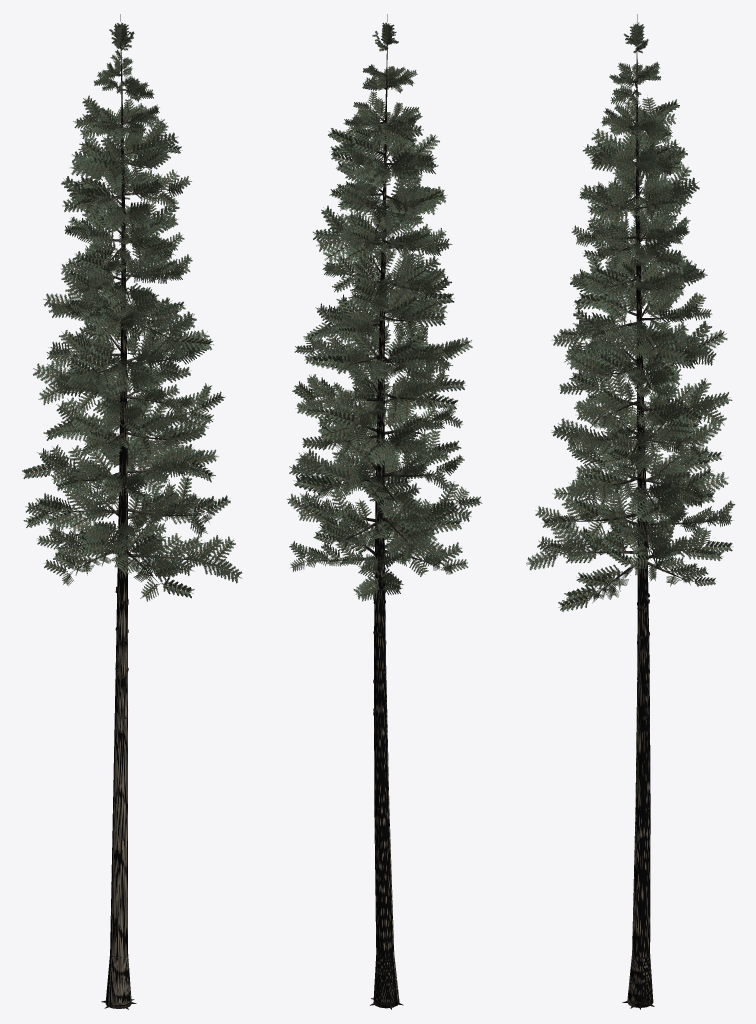
Rendered from Sitka_Mature_02_HighPruned_Healed_LOD0.fbx.
3 renders of one model, left to right at view 1: azimuth 30°, elevation 25°; view 2: azimuth 150°, elevation 25°; view 3: azimuth 270°, elevation 25°, orthographic.
Parts seen in each view (by area): view 1: Sitka_Mature_02_HighPruned_Healed_LOD0; view 2: Sitka_Mature_02_HighPruned_Healed_LOD0; view 3: Sitka_Mature_02_HighPruned_Healed_LOD0.
Boxes of the visible parts, bbox=[...] form: Sitka_Mature_02_HighPruned_Healed_LOD0: bbox=[22, 14, 241, 1009]; Sitka_Mature_02_HighPruned_Healed_LOD0: bbox=[287, 14, 482, 1009]; Sitka_Mature_02_HighPruned_Healed_LOD0: bbox=[526, 14, 735, 1009].
Bounding box in the file's own units: 505 × 2600 × 536.
3 materials, 3 textured.
